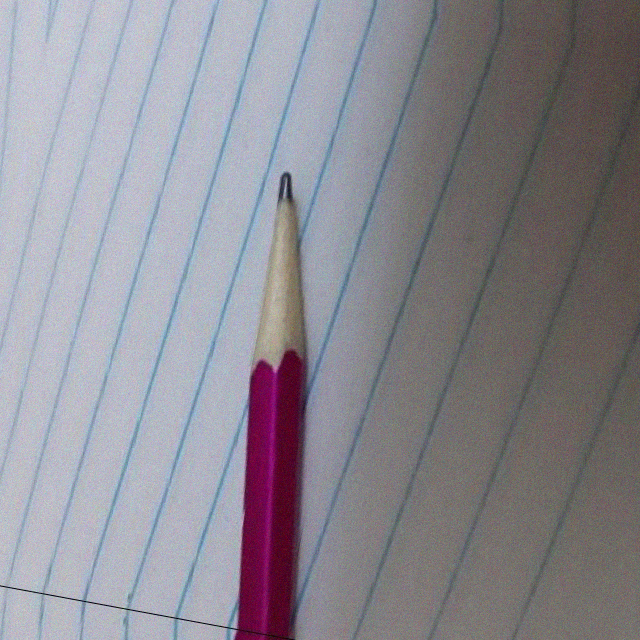pencil: (221, 159, 338, 382)
